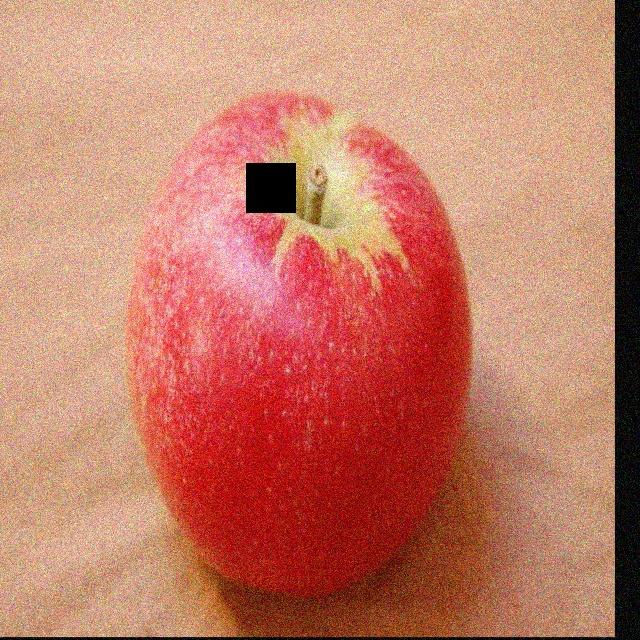red apple: (120, 81, 474, 599)
